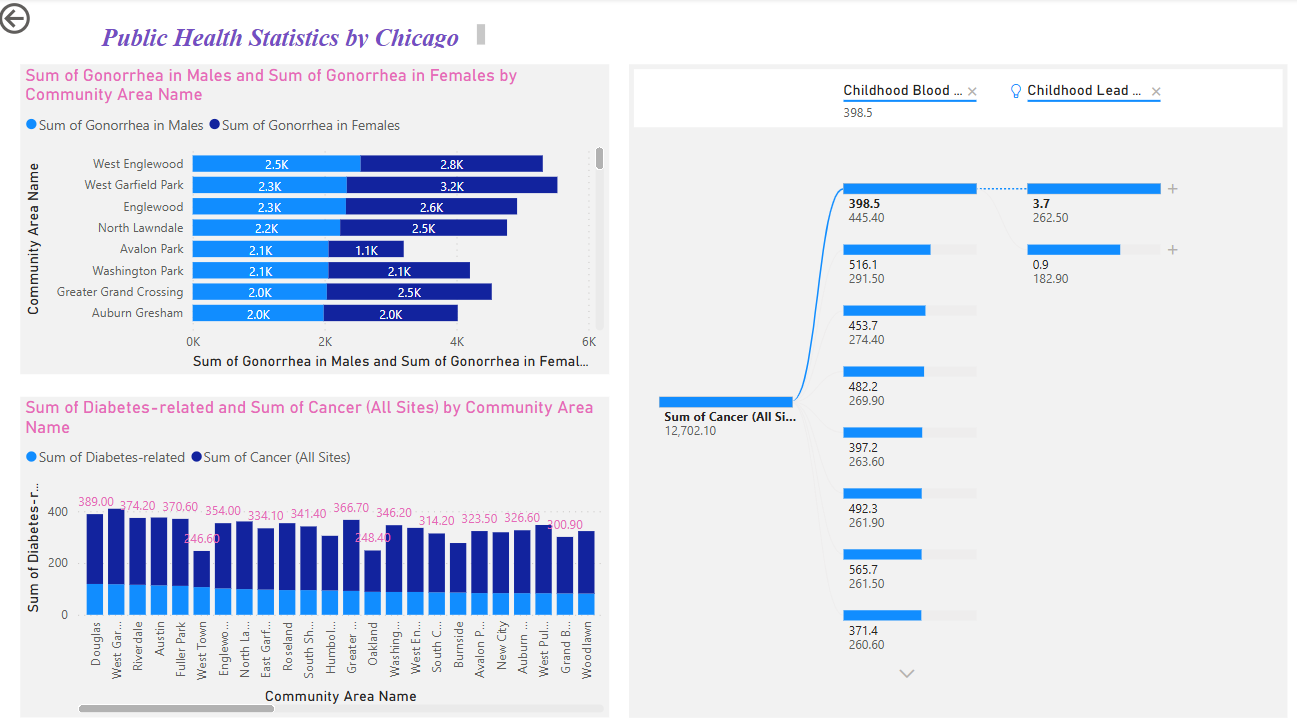

Layout of this report page (visuals, bound fields, positions):
{"tool":"powerbi","page":{"name":"Health Indicators","canvas":[1280,720],"ordinal":0},"visuals":[{"type":"barChart","fields":{"Category":["Public_Health_Statistics_-_Selected_public_health_indicators_by_Chicago_comm (3).Community Area Name"],"Y":["Sum(Public_Health_Statistics_-_Selected_public_health_indicators_by_Chicago_comm (3).Gonorrhea in Males)","Sum(Public_Health_Statistics_-_Selected_public_health_indicators_by_Chicago_comm (3).Gonorrhea in Females)"]},"box":[26,64.4,575.8,303],"z":0},{"type":"columnChart","fields":{"Category":["Public_Health_Statistics_-_Selected_public_health_indicators_by_Chicago_comm (3).Community Area Name"],"Y":["Sum(Public_Health_Statistics_-_Selected_public_health_indicators_by_Chicago_comm (3).Diabetes-related)","Sum(Public_Health_Statistics_-_Selected_public_health_indicators_by_Chicago_comm (3).Cancer (All Sites))"]},"box":[26,389.4,575.8,314],"z":1000},{"type":"decompositionTreeVisual","fields":{"Analyze":["Sum(Public_Health_Statistics_-_Selected_public_health_indicators_by_Chicago_comm (3).Cancer (All Sites))"],"ExplainBy":["Public_Health_Statistics_-_Selected_public_health_indicators_by_Chicago_comm (3).Childhood Blood Lead Level Screening","Public_Health_Statistics_-_Selected_public_health_indicators_by_Chicago_comm (3).Childhood Lead Poisoning","Public_Health_Statistics_-_Selected_public_health_indicators_by_Chicago_comm (3).Low Birth Weight"]},"box":[621.1,64.4,644.4,638.9],"z":2000},{"type":"actionButton","box":[0,0,100,40],"z":2002},{"type":"textbox","box":[100.1,20.6,385.3,32.9],"z":2003}]}

Visuals, with their boxes in screenshot pixels (x1, y1, x2, y2), scaled from the page's 1280x720 canvas onto the 1297x726 screenshot:
barChart - Public_Health_Statistics_-_Selected_public_health_indicators_by_Chicago_comm (3).Community Area Name x Sum(Public_Health_Statistics_-_Selected_public_health_indicators_by_Chicago_comm (3).Gonorrhea in Males): 26/65/610/370
columnChart - Public_Health_Statistics_-_Selected_public_health_indicators_by_Chicago_comm (3).Community Area Name x Sum(Public_Health_Statistics_-_Selected_public_health_indicators_by_Chicago_comm (3).Diabetes-related): 26/393/610/709
decompositionTreeVisual - Sum(Public_Health_Statistics_-_Selected_public_health_indicators_by_Chicago_comm (3).Cancer (All Sites)) x Public_Health_Statistics_-_Selected_public_health_indicators_by_Chicago_comm (3).Childhood Blood Lead Level Screening: 629/65/1282/709
actionButton: 0/0/101/40
textbox: 101/21/492/54
